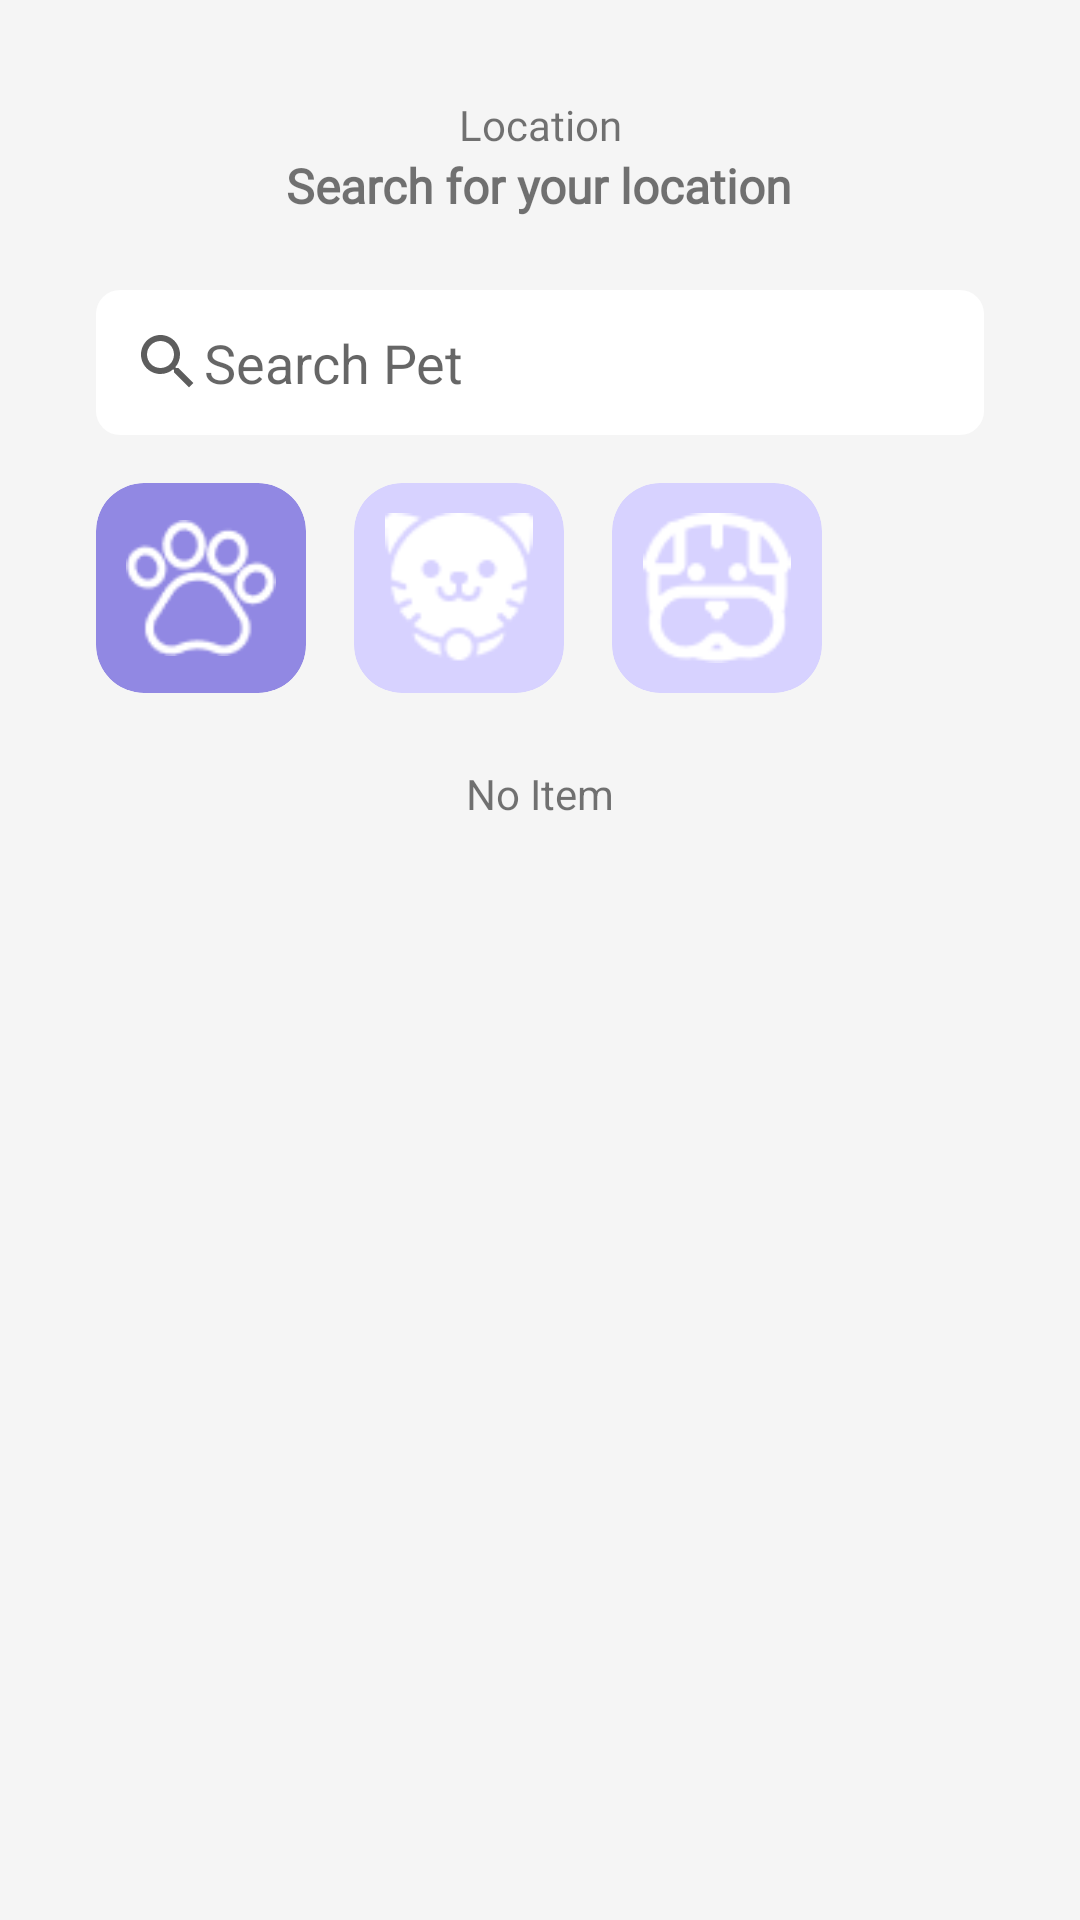

Icon bounding boxes for this 1080px×1920px phone screenshot, format (x1, y1, x2, y2):
all pet: (126, 520, 276, 656)
cat: (385, 513, 533, 660)
dogs: (643, 513, 791, 661)
